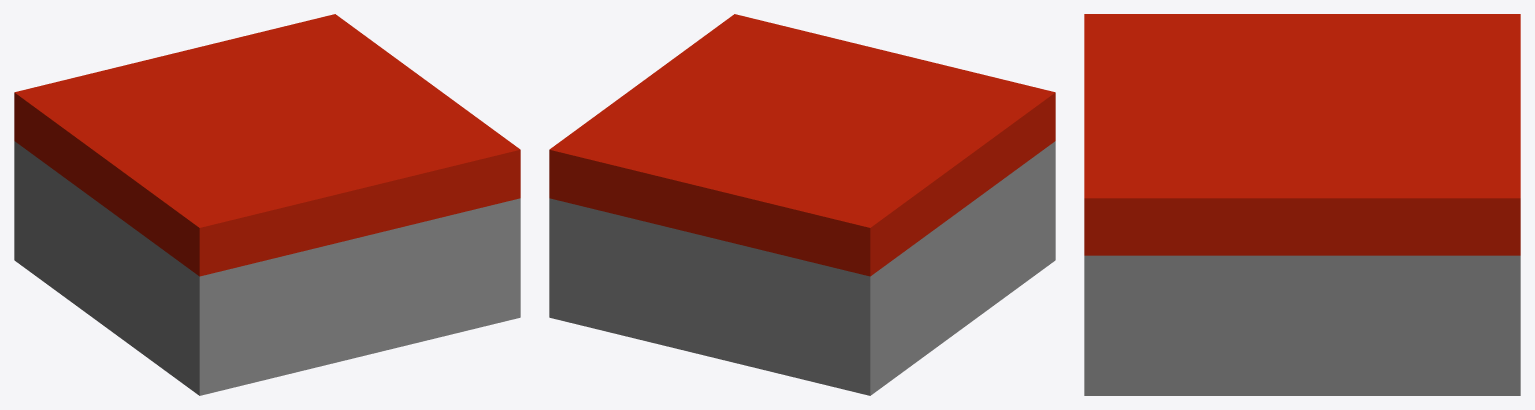
File: button.fbx
The picture shows the model from 3 angles, left to right: view 1: azimuth 30°, elevation 25°; view 2: azimuth 150°, elevation 25°; view 3: azimuth 270°, elevation 25°; orthographic projection. The views are drawn at different scales.
Parts seen in each view (by area): view 1: Button; view 2: Button; view 3: Button.
Boxes of the visible parts, x1,y1,x2,y2 form: Button: (14,14,520,395); Button: (549,14,1055,395); Button: (1084,14,1520,395).
Size of the model in its own units: 6 by 3 by 6.
